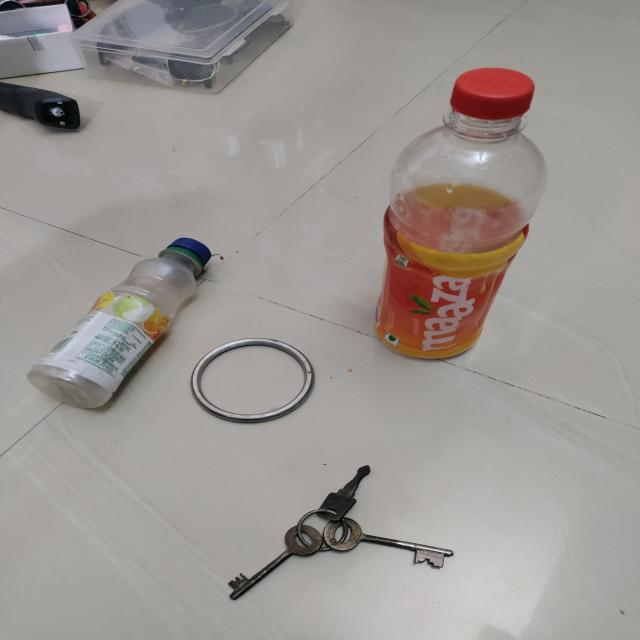metal: (228, 464, 454, 600), (191, 333, 313, 422)
paper: (0, 5, 85, 78)
plastic: (378, 67, 550, 361), (28, 235, 212, 412), (73, 0, 297, 95), (0, 82, 81, 131)
